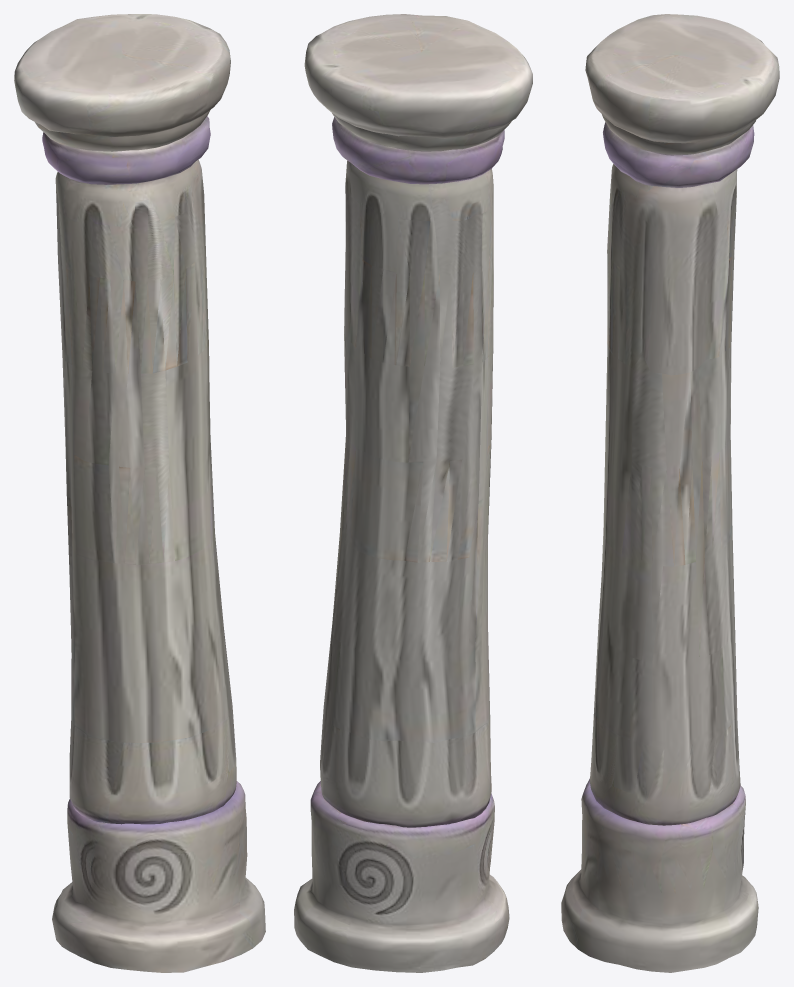
Rendered from el_ar_pilar.glb.
The picture shows the model from 3 angles, left to right: view 1: azimuth 30°, elevation 25°; view 2: azimuth 150°, elevation 25°; view 3: azimuth 270°, elevation 25°; orthographic projection. The views are drawn at different scales.
Visible parts, largest first — view 1: Mesh_0.003; view 2: Mesh_0.003; view 3: Mesh_0.003.
Part boxes in pixels (x1,y1,x2,y2): Mesh_0.003: (14, 14, 265, 972); Mesh_0.003: (294, 14, 532, 972); Mesh_0.003: (561, 14, 779, 972).
Size of the model in its own units: 0.114 by 0.4341 by 0.0999.
1 material, 1 textured.
